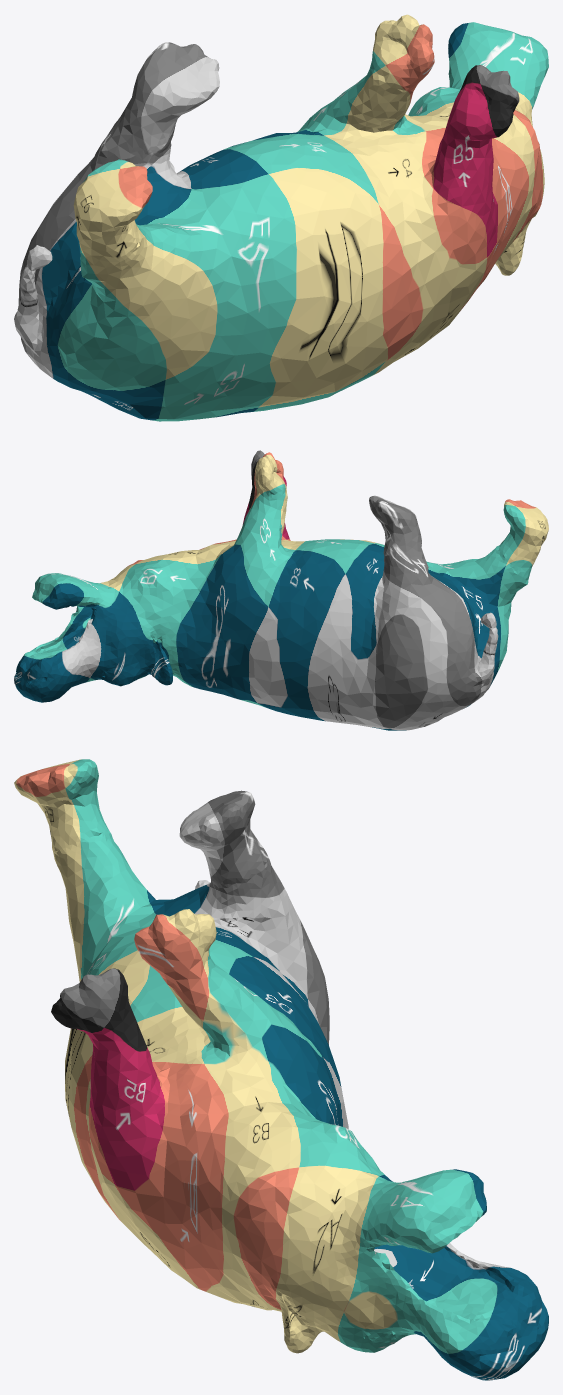
File: cougar_04-hippo_02.obj
3 renders of one model, top to bottom at view 1: azimuth 30°, elevation 25°; view 2: azimuth 150°, elevation 25°; view 3: azimuth 270°, elevation 25°, orthographic. The views are drawn at different scales.
Visible parts, largest first — view 1: cougar_04-hippo_02_export; view 2: cougar_04-hippo_02_export; view 3: cougar_04-hippo_02_export.
Part boxes in pixels (<box>): cougar_04-hippo_02_export: <box>14,14,548,421</box>; cougar_04-hippo_02_export: <box>14,450,548,730</box>; cougar_04-hippo_02_export: <box>14,759,548,1380</box>.
Bounding box in the file's own units: 0.8747 × 0.4839 × 0.5882.
